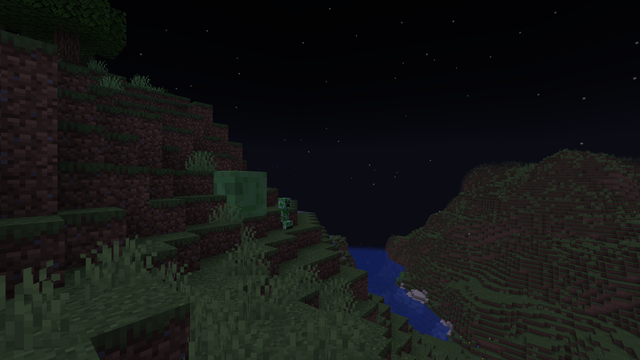creepers: (276, 196, 291, 229)
slimes: (201, 168, 267, 220)
